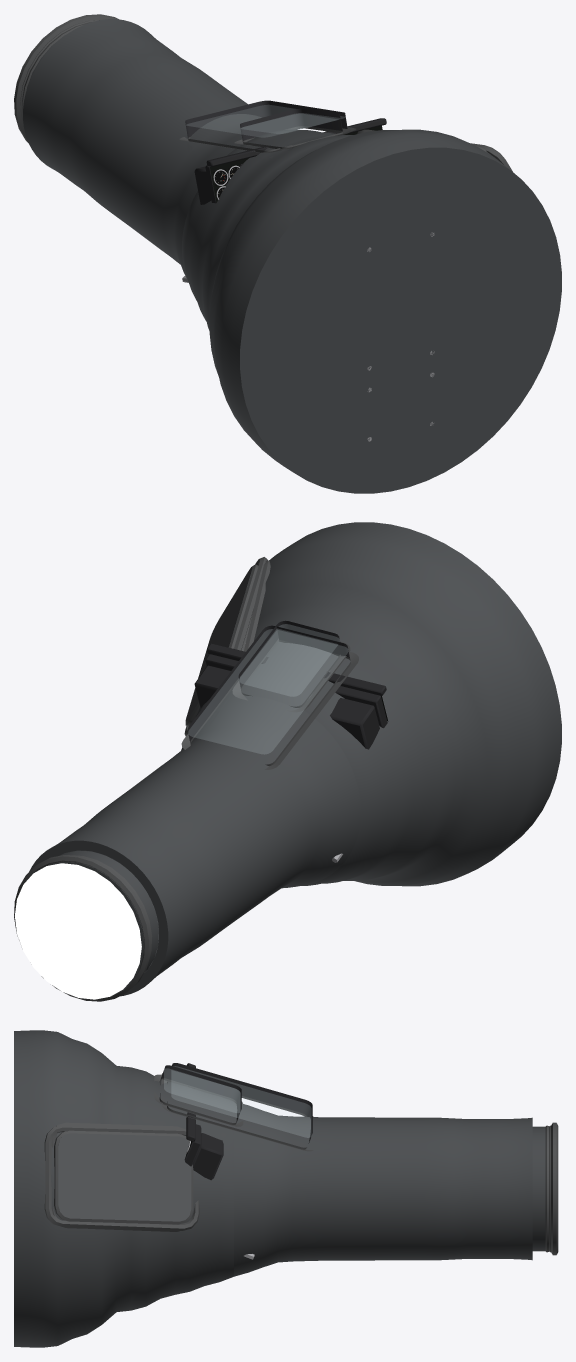
The model's file is mercury.glb.
3 renders of one model, top to bottom at view 1: azimuth 30°, elevation 25°; view 2: azimuth 150°, elevation 25°; view 3: azimuth 270°, elevation 25°, orthographic. The views are drawn at different scales.
Parts seen in each view (by area): view 1: shell_cupola, shell_panoramic, frame_small0, glass_panoramic0, shell_small, frame_panoramic0, panel, hatchframe_top, glass_small0, docking; view 2: shell_cupola, shell_panoramic, plug_top, glass_panoramic0, shell_small, panel, glass_small0, frame_panoramic0, hatchframe_top, door_inward, frame_small0, docking (+2 smaller); view 3: shell_panoramic, shell_cupola, door_inward, glass_panoramic0, shell_small, hatchframe_inward, docking, frame_panoramic0, frame_small0, glass_small0, panel, hatchframe_top (+1 smaller).
Part boxes in pixels (x1,y1,x2,y2): shell_cupola: [182, 129, 561, 493]; shell_panoramic: [23, 19, 324, 279]; frame_small0: [234, 108, 351, 149]; glass_panoramic0: [187, 105, 344, 136]; shell_small: [178, 114, 335, 159]; frame_panoramic0: [179, 100, 356, 153]; panel: [182, 118, 386, 282]; hatchframe_top: [14, 14, 119, 142]; glass_small0: [241, 113, 339, 133]; docking: [20, 20, 99, 122]; shell_cupola: [196, 522, 561, 886]; shell_panoramic: [29, 641, 367, 996]; plug_top: [15, 863, 141, 999]; glass_panoramic0: [189, 629, 347, 753]; shell_small: [191, 623, 354, 774]; panel: [194, 643, 388, 862]; glass_small0: [239, 624, 339, 695]; frame_panoramic0: [181, 625, 358, 769]; hatchframe_top: [14, 855, 151, 1001]; door_inward: [185, 564, 258, 726]; frame_small0: [232, 620, 350, 712]; docking: [36, 850, 158, 979]; shell_panoramic: [160, 1080, 532, 1276]; shell_cupola: [14, 1030, 237, 1347]; door_inward: [54, 1130, 193, 1224]; glass_panoramic0: [172, 1066, 310, 1137]; shell_small: [146, 1074, 321, 1153]; hatchframe_inward: [44, 1125, 199, 1230]; docking: [532, 1125, 550, 1252]; frame_panoramic0: [161, 1063, 313, 1151]; frame_small0: [154, 1065, 243, 1126]; glass_small0: [164, 1069, 239, 1112]; panel: [184, 1063, 254, 1259]; hatchframe_top: [551, 1122, 558, 1255].
Bounding box in the file's own units: 1.73 × 1.73 × 2.99.
Materials: 28 (1 with a texture image).
